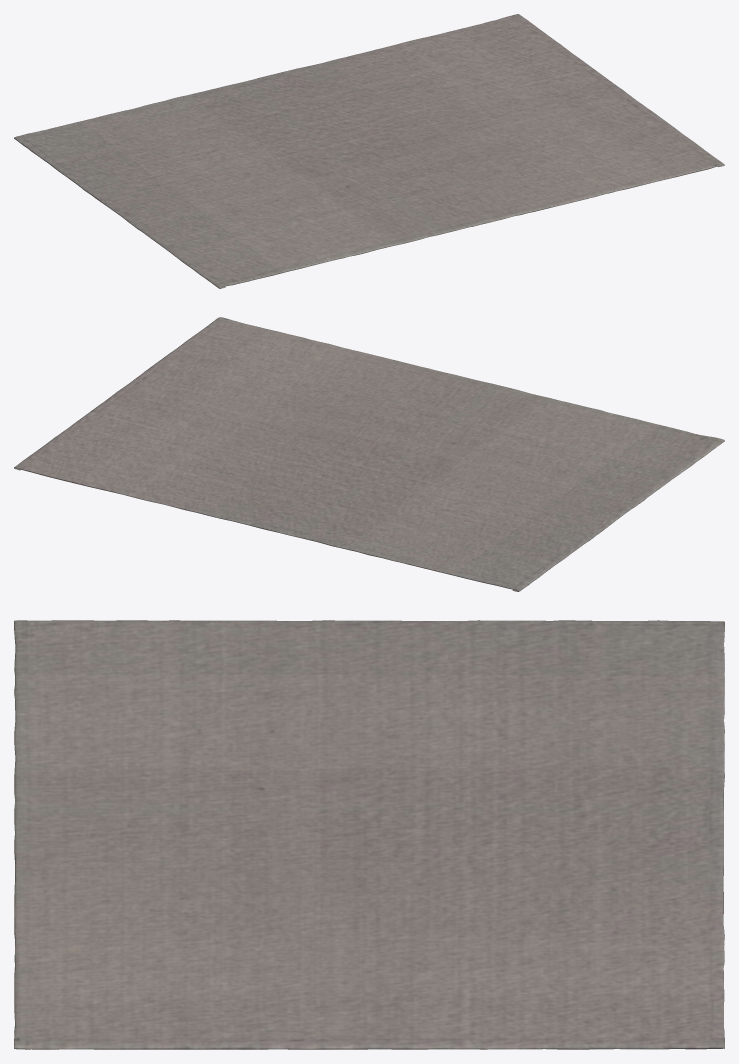
File: tiphede_rug_flatwoven_black_natural.glb
3 views of the same model, one above another, from view 1: azimuth 30°, elevation 25°; view 2: azimuth 150°, elevation 25°; view 3: azimuth 270°, elevation 25° (orthographic). The views are drawn at different scales.
Visible parts, largest first — view 1: ASY_ART_20470047_S01_NV01; view 2: ASY_ART_20470047_S01_NV01; view 3: ASY_ART_20470047_S01_NV01.
Part boxes in pixels (bbox=[...]): ASY_ART_20470047_S01_NV01: bbox=[14, 14, 724, 288]; ASY_ART_20470047_S01_NV01: bbox=[14, 317, 724, 591]; ASY_ART_20470047_S01_NV01: bbox=[14, 620, 724, 1049].
Bounding box in the file's own units: 2.2 × 0.0118 × 1.55.
Materials: 1 (1 with a texture image).
